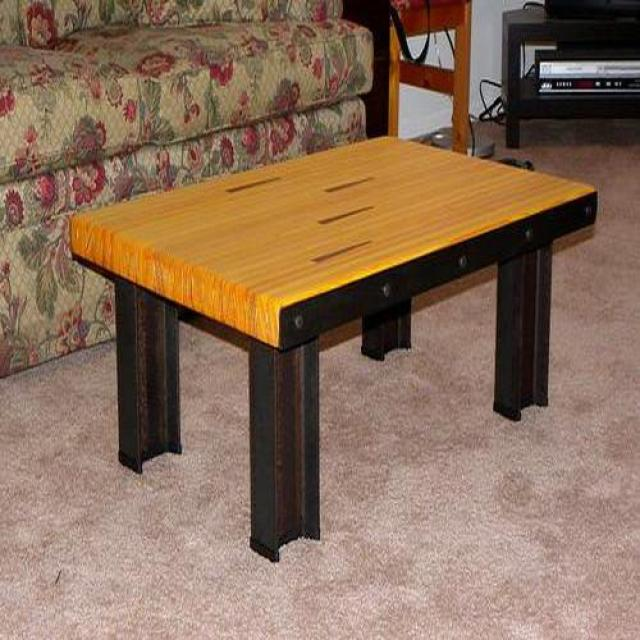table: (68, 137, 599, 564)
